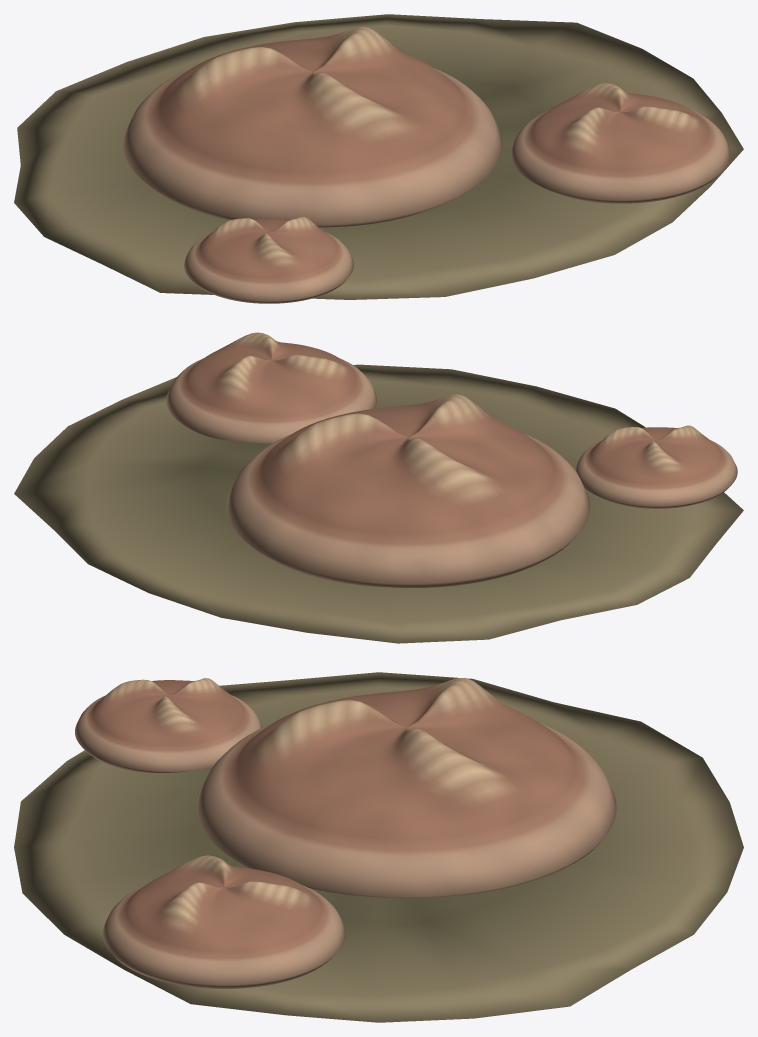
File: Anfesta.fbx
The picture shows the model from 3 angles, top to bottom: view 1: azimuth 30°, elevation 25°; view 2: azimuth 150°, elevation 25°; view 3: azimuth 270°, elevation 25°; orthographic projection. The views are drawn at different scales.
Visible parts, largest first — view 1: Anfesta; view 2: Anfesta; view 3: Anfesta.
Part boxes in pixels (x1=…): Anfesta: x1=14, y1=14, x2=743, y2=303; Anfesta: x1=14, y1=332, x2=743, y2=643; Anfesta: x1=14, y1=672, x2=743, y2=1022.
Bounding box in the file's own units: 1.5 × 0.2337 × 1.32.
